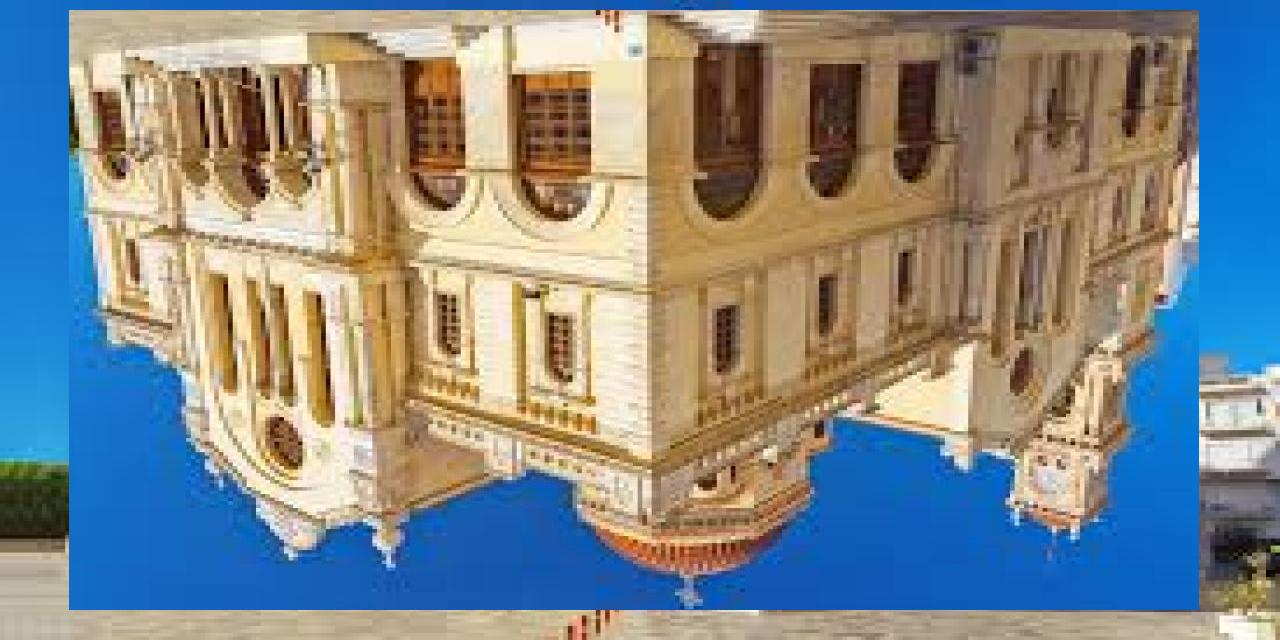Agios Minas: (70, 11, 1200, 611)
